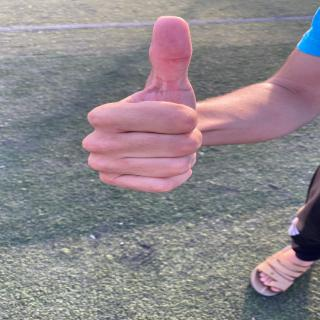ALIF: (78, 10, 247, 201)
